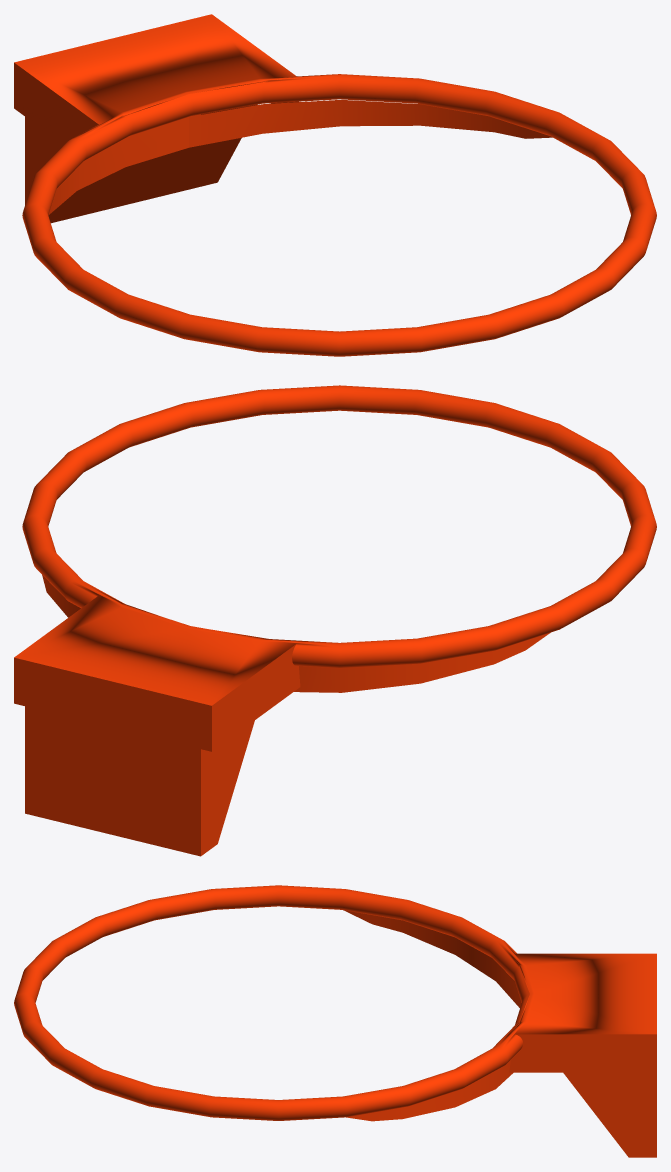
The model's file is Basketball Hoop.fbx.
The picture shows the model from 3 angles, top to bottom: view 1: azimuth 30°, elevation 25°; view 2: azimuth 150°, elevation 25°; view 3: azimuth 270°, elevation 25°; orthographic projection. The views are drawn at different scales.
Visible parts, largest first — view 1: Basketball_Hoop1; view 2: Basketball_Hoop1; view 3: Basketball_Hoop1.
Boxes of the visible parts, x1=… form: Basketball_Hoop1: x1=14, y1=14, x2=656, y2=356; Basketball_Hoop1: x1=14, y1=385, x2=656, y2=856; Basketball_Hoop1: x1=14, y1=885, x2=656, y2=1157.
Size of the model in its own units: 0.4762 by 0.1273 by 0.5786.
